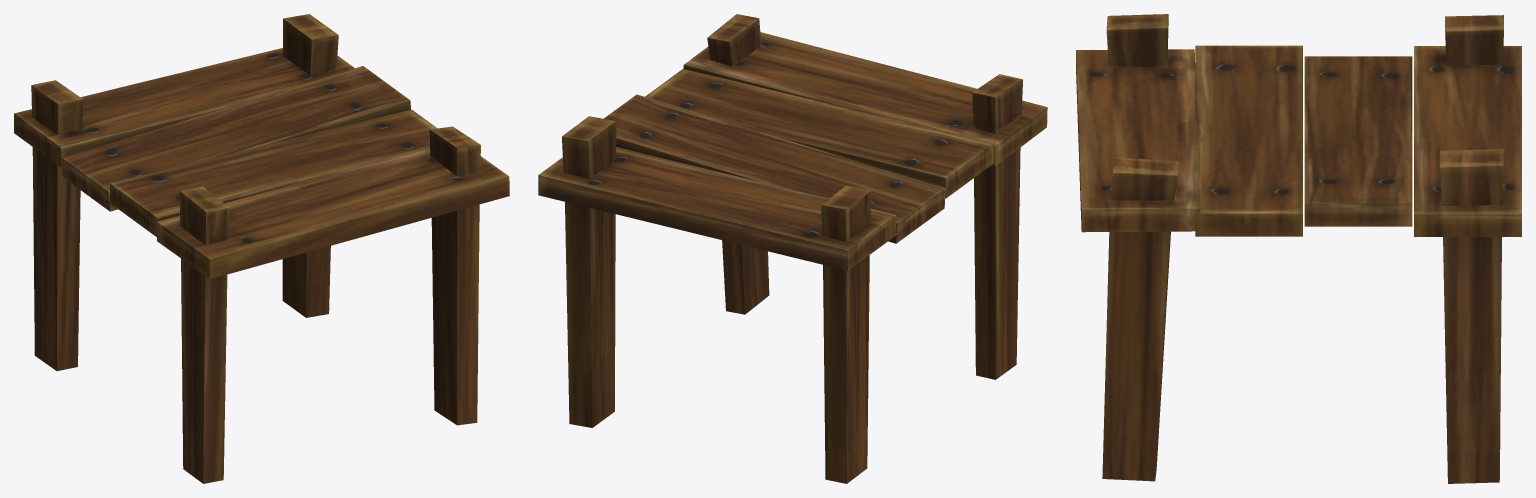
Rendered from modelBridge.fbx.
3 views of the same model, side by side, from view 1: azimuth 30°, elevation 25°; view 2: azimuth 150°, elevation 25°; view 3: azimuth 270°, elevation 25° (orthographic). The views are drawn at different scales.
Visible parts, largest first — view 1: modelBridge; view 2: modelBridge; view 3: modelBridge.
Part boxes in pixels (x1,y1,x2,y2): modelBridge: [14, 14, 509, 483]; modelBridge: [538, 14, 1047, 483]; modelBridge: [1076, 14, 1521, 483].
Bounding box in the file's own units: 20.53 × 18.28 × 22.88.
